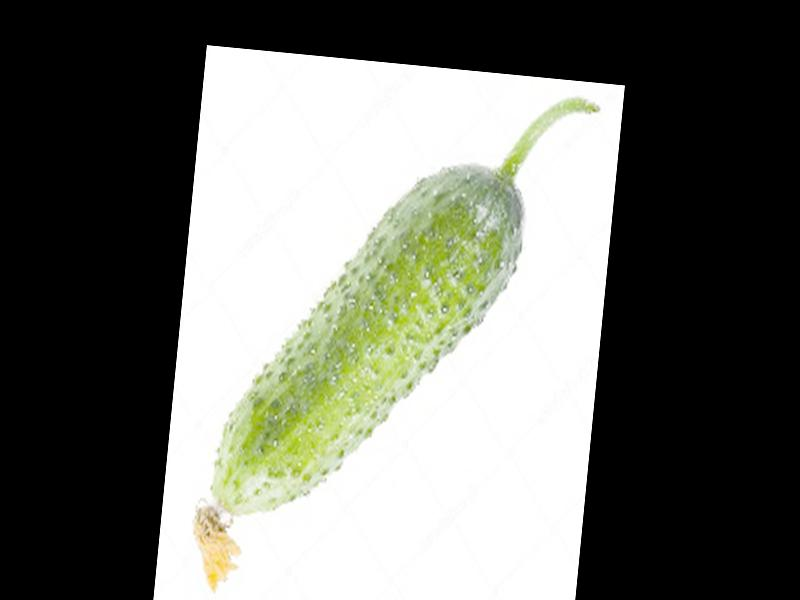Cucumber: (186, 65, 597, 600)
